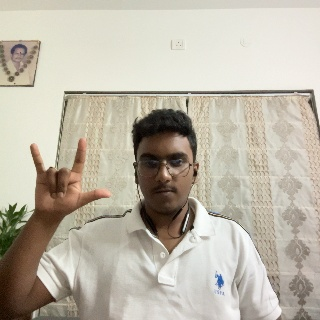Face: (134, 118, 195, 208)
I Love You: (27, 140, 113, 219)
